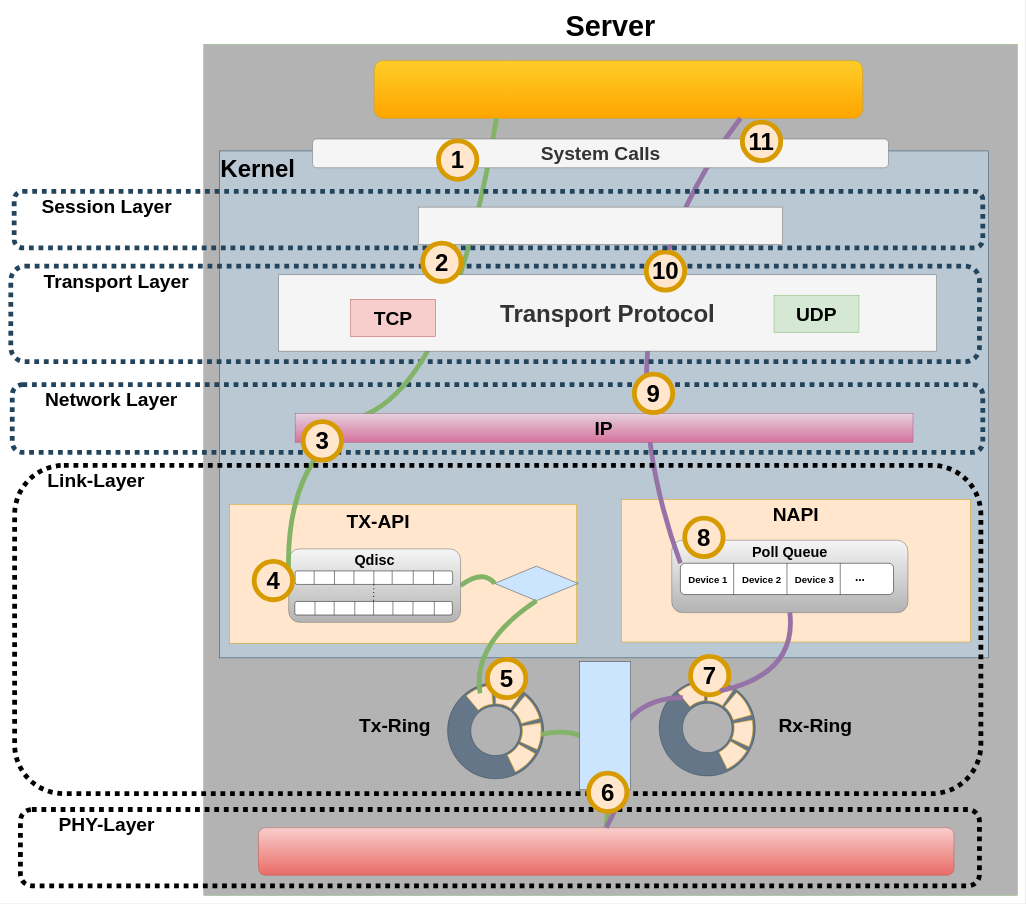
The diagram is 1026 pixels wide and 904 high, and some of its shapes have lost their labels. The centre of each missing label's shape, as x and y in pixels:
Application: the point at 618,89
DMA: the point at 605,725
NIC: the point at 606,851
Scheduler: the point at 536,583
Sockets: the point at 600,226
